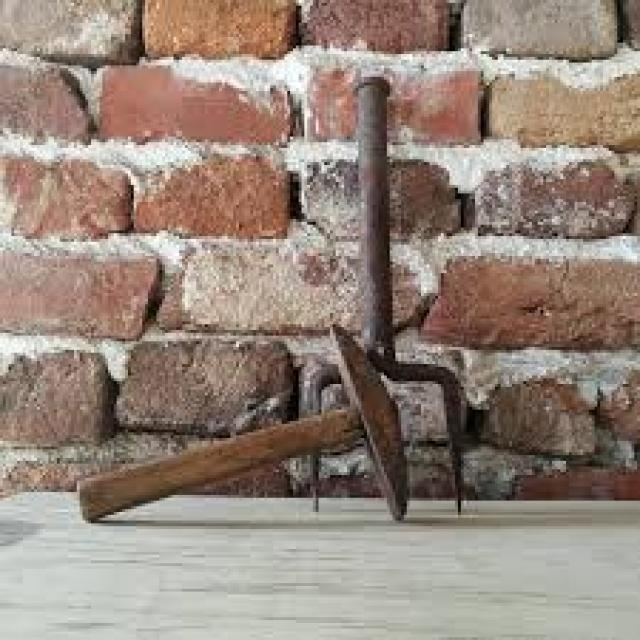hammer: (52, 317, 422, 553)
